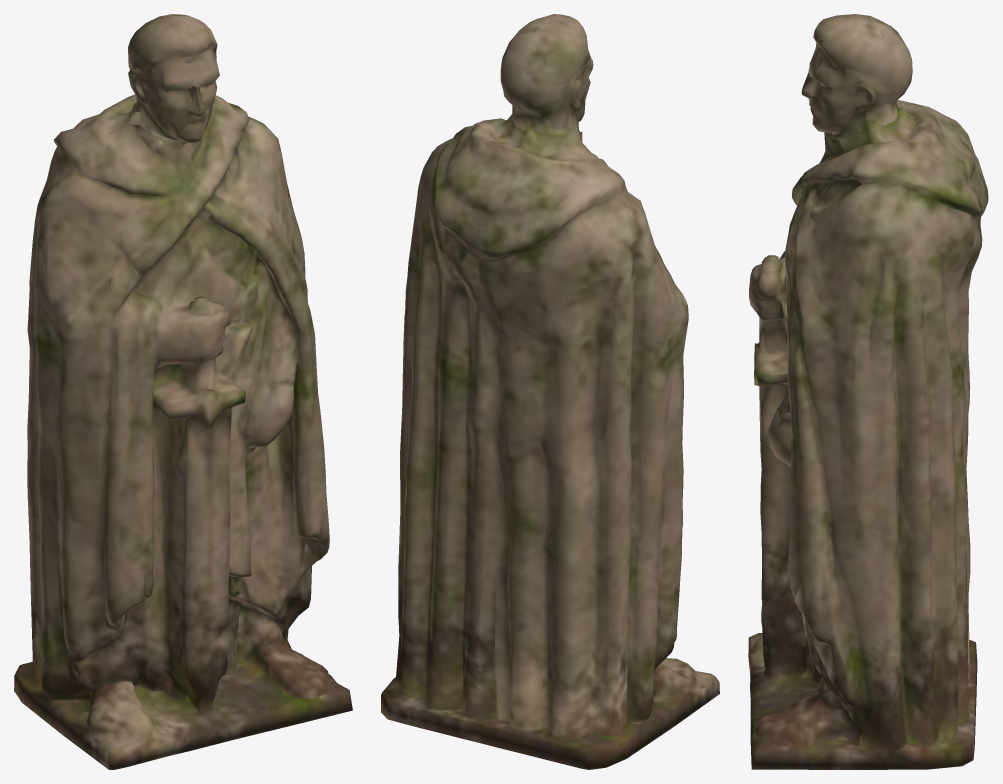
The model's file is t6_wetland_king_statue.glb.
3 views of the same model, side by side, from view 1: azimuth 30°, elevation 25°; view 2: azimuth 150°, elevation 25°; view 3: azimuth 270°, elevation 25° (orthographic).
Visible parts, largest first — view 1: env_wetland_props_throneRoom_Statue_King; view 2: env_wetland_props_throneRoom_Statue_King; view 3: env_wetland_props_throneRoom_Statue_King.
Part boxes in pixels (x1=…): env_wetland_props_throneRoom_Statue_King: x1=14, y1=14, x2=352, y2=769; env_wetland_props_throneRoom_Statue_King: x1=381, y1=14, x2=719, y2=769; env_wetland_props_throneRoom_Statue_King: x1=748, y1=14, x2=988, y2=769.
Bounding box in the file's own units: 25.07 × 63.05 × 19.9.
Materials: 1 (1 with a texture image).
